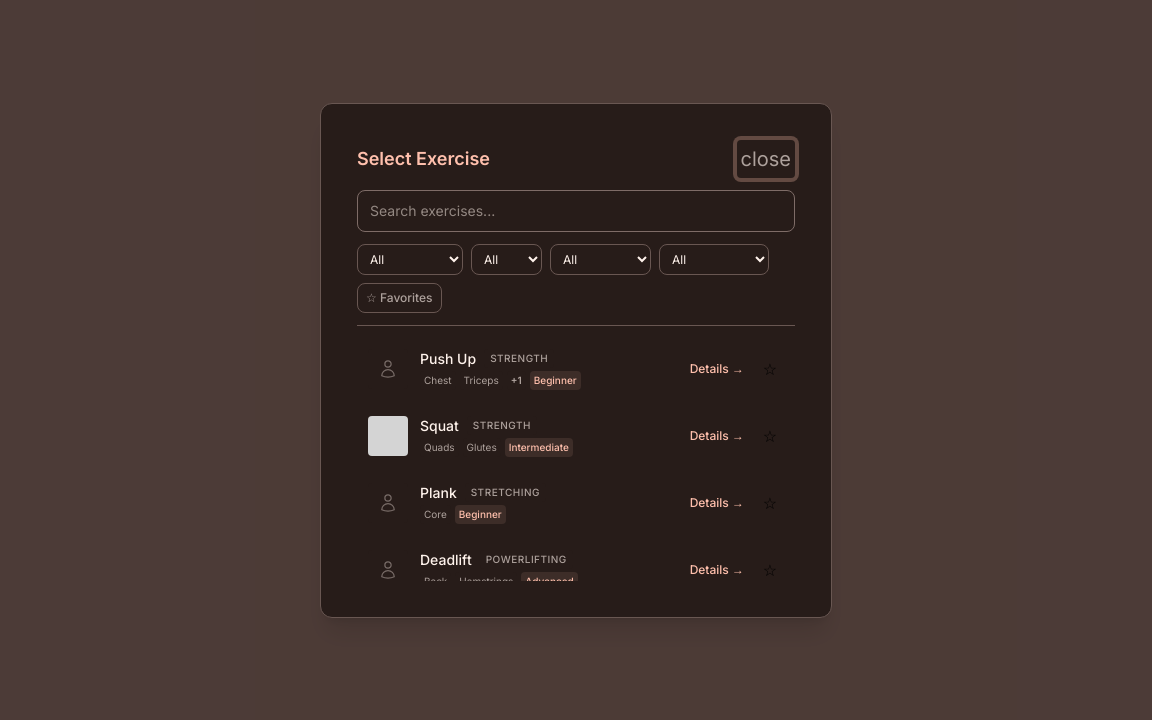
ExercisePicker › difficulty filter select narrows results
This screenshot has width=1152, height=720.
Select "Intermediate" in the dropdown named "Level" at (714, 259), box x1=659 y1=244 x2=769 y2=274
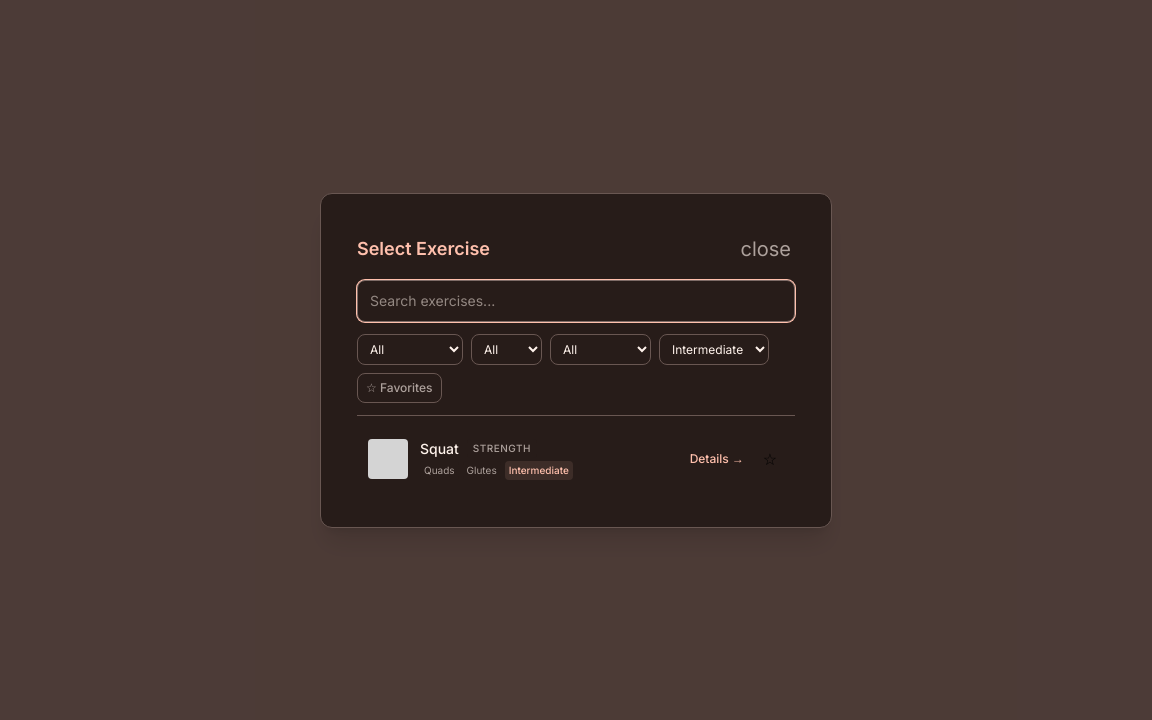
Expected: the text "Squat" is shown, x1=420 y1=438 x2=459 y2=458
Now the button "Push Up" is gone
